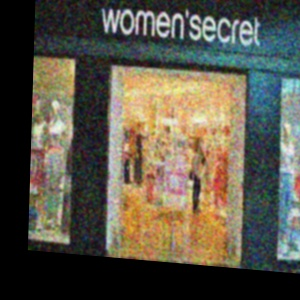women_secret: (231, 1, 298, 32)
